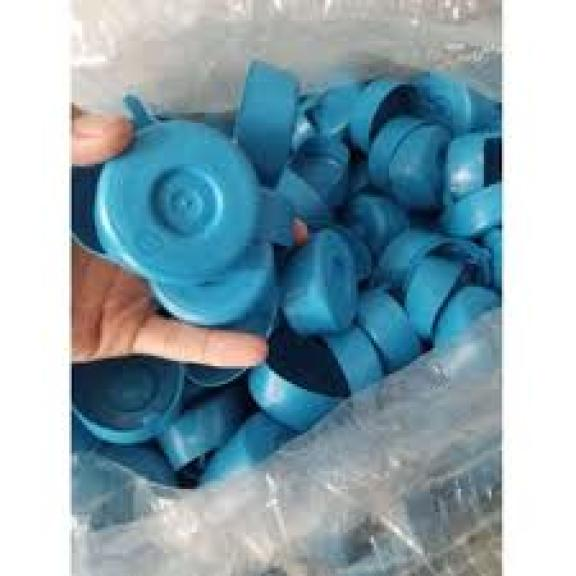Plastik: (97, 95, 261, 276)
